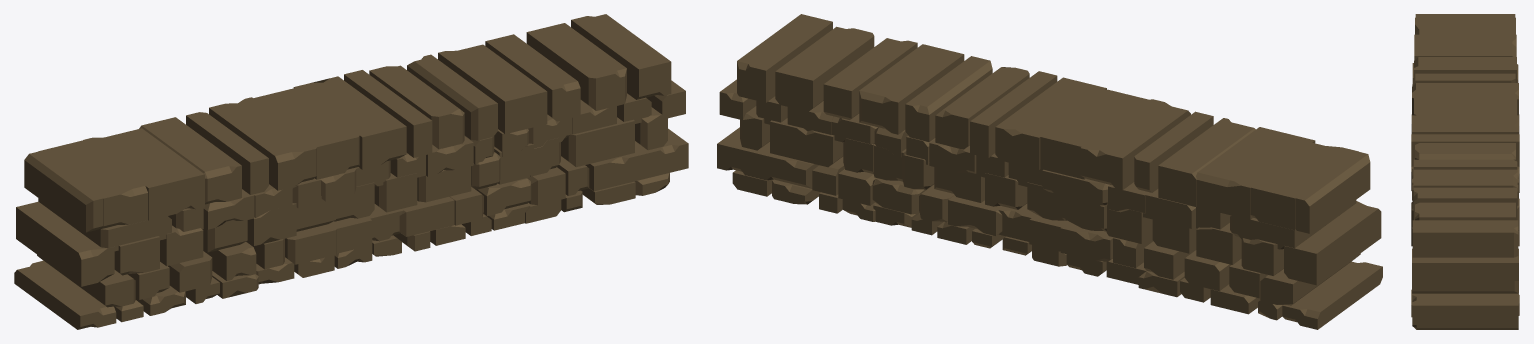
Rendered from Wall2.fbx.
The picture shows the model from 3 angles, left to right: view 1: azimuth 30°, elevation 25°; view 2: azimuth 150°, elevation 25°; view 3: azimuth 270°, elevation 25°; orthographic projection. The views are drawn at different scales.
Visible parts, largest first — view 1: Wall; view 2: Wall; view 3: Wall.
Part boxes in pixels (x1,y1,x2,y2): Wall: (14, 14, 688, 329); Wall: (717, 14, 1382, 329); Wall: (1411, 14, 1519, 329).
Size of the model in its own units: 1055 by 211 by 210.
